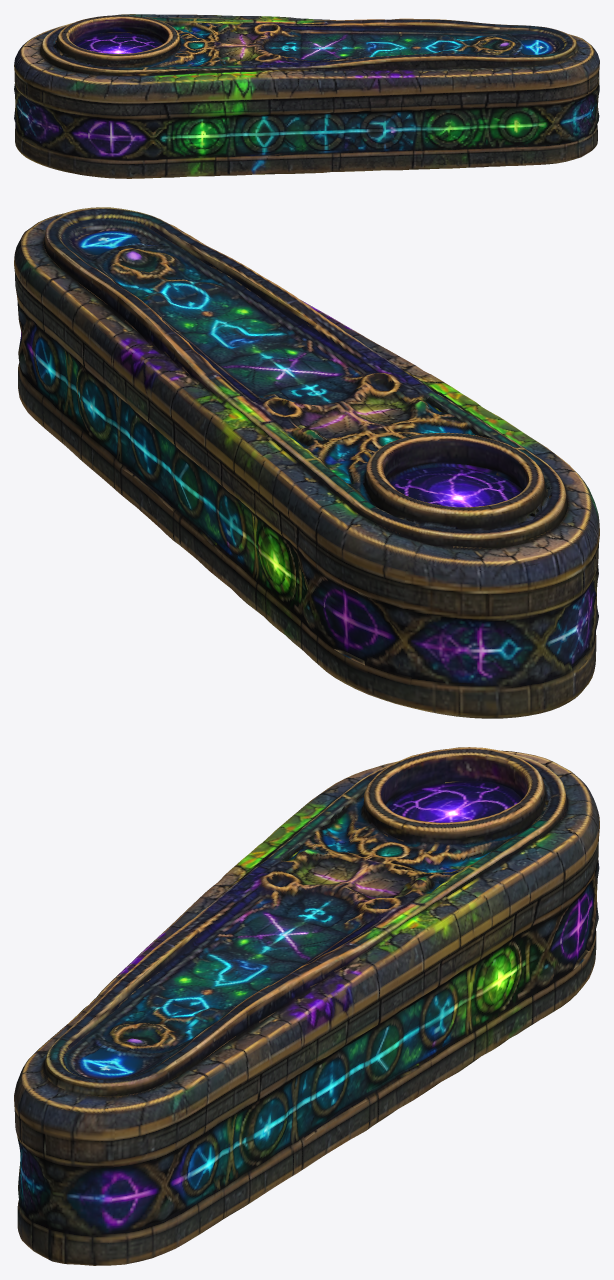
File: Right_flipper_lvl_4.glb
The picture shows the model from 3 angles, top to bottom: view 1: azimuth 30°, elevation 25°; view 2: azimuth 150°, elevation 25°; view 3: azimuth 270°, elevation 25°; orthographic projection. The views are drawn at different scales.
Parts seen in each view (by area): view 1: Mesh0; view 2: Mesh0; view 3: Mesh0.
Part boxes in pixels (x1=…): Mesh0: x1=14, y1=14, x2=599, y2=178; Mesh0: x1=14, y1=207, x2=599, y2=718; Mesh0: x1=14, y1=747, x2=599, y2=1265.
Bounding box in the file's own units: 1.88 × 0.4344 × 1.26.
1 material, 1 textured.
